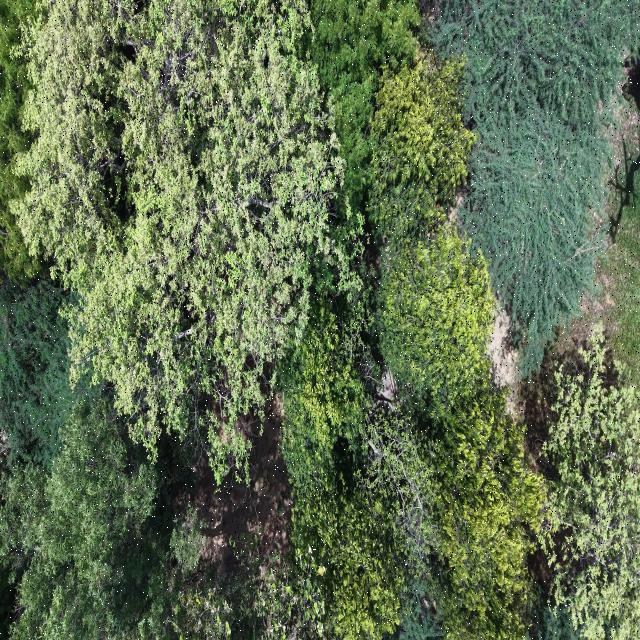DRY_AREA: (190, 400, 290, 571), (190, 399, 290, 569), (487, 310, 519, 416)
VEGETATION_TREE: (0, 0, 639, 639), (278, 5, 540, 637), (13, 0, 348, 478), (278, 58, 497, 636), (0, 398, 323, 639), (432, 0, 639, 371), (366, 384, 543, 639), (367, 59, 493, 410), (0, 400, 178, 639), (540, 334, 639, 639), (423, 388, 542, 639), (557, 55, 639, 385), (300, 0, 420, 207), (375, 226, 494, 411), (366, 58, 473, 248), (292, 465, 403, 639), (277, 296, 374, 489), (0, 277, 98, 465), (153, 548, 327, 639), (598, 51, 639, 385), (0, 0, 40, 283), (601, 166, 639, 383), (234, 548, 324, 639), (395, 576, 443, 639), (526, 588, 582, 639), (169, 504, 204, 570), (0, 568, 15, 639)
